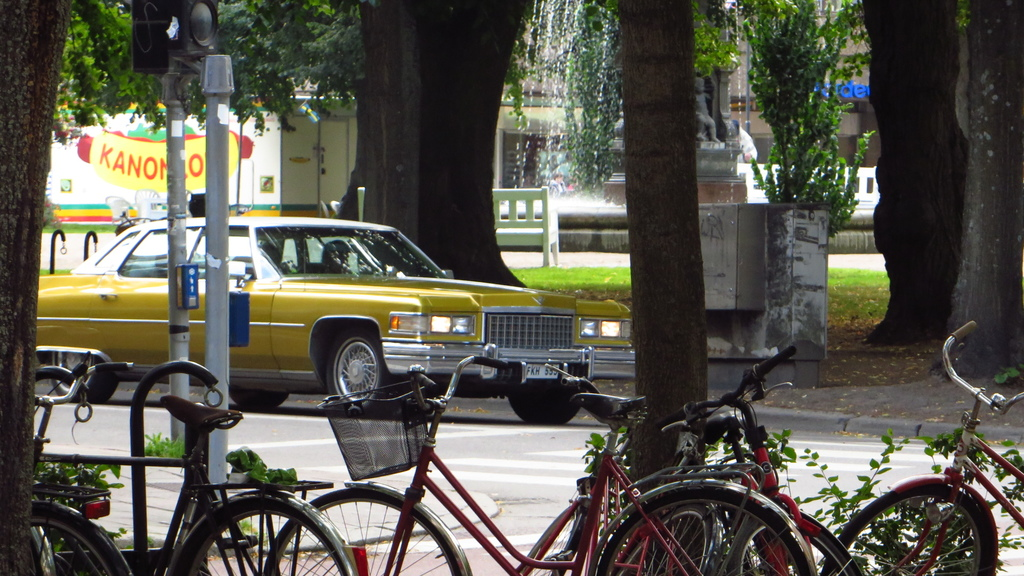Car: (35, 212, 624, 423)
